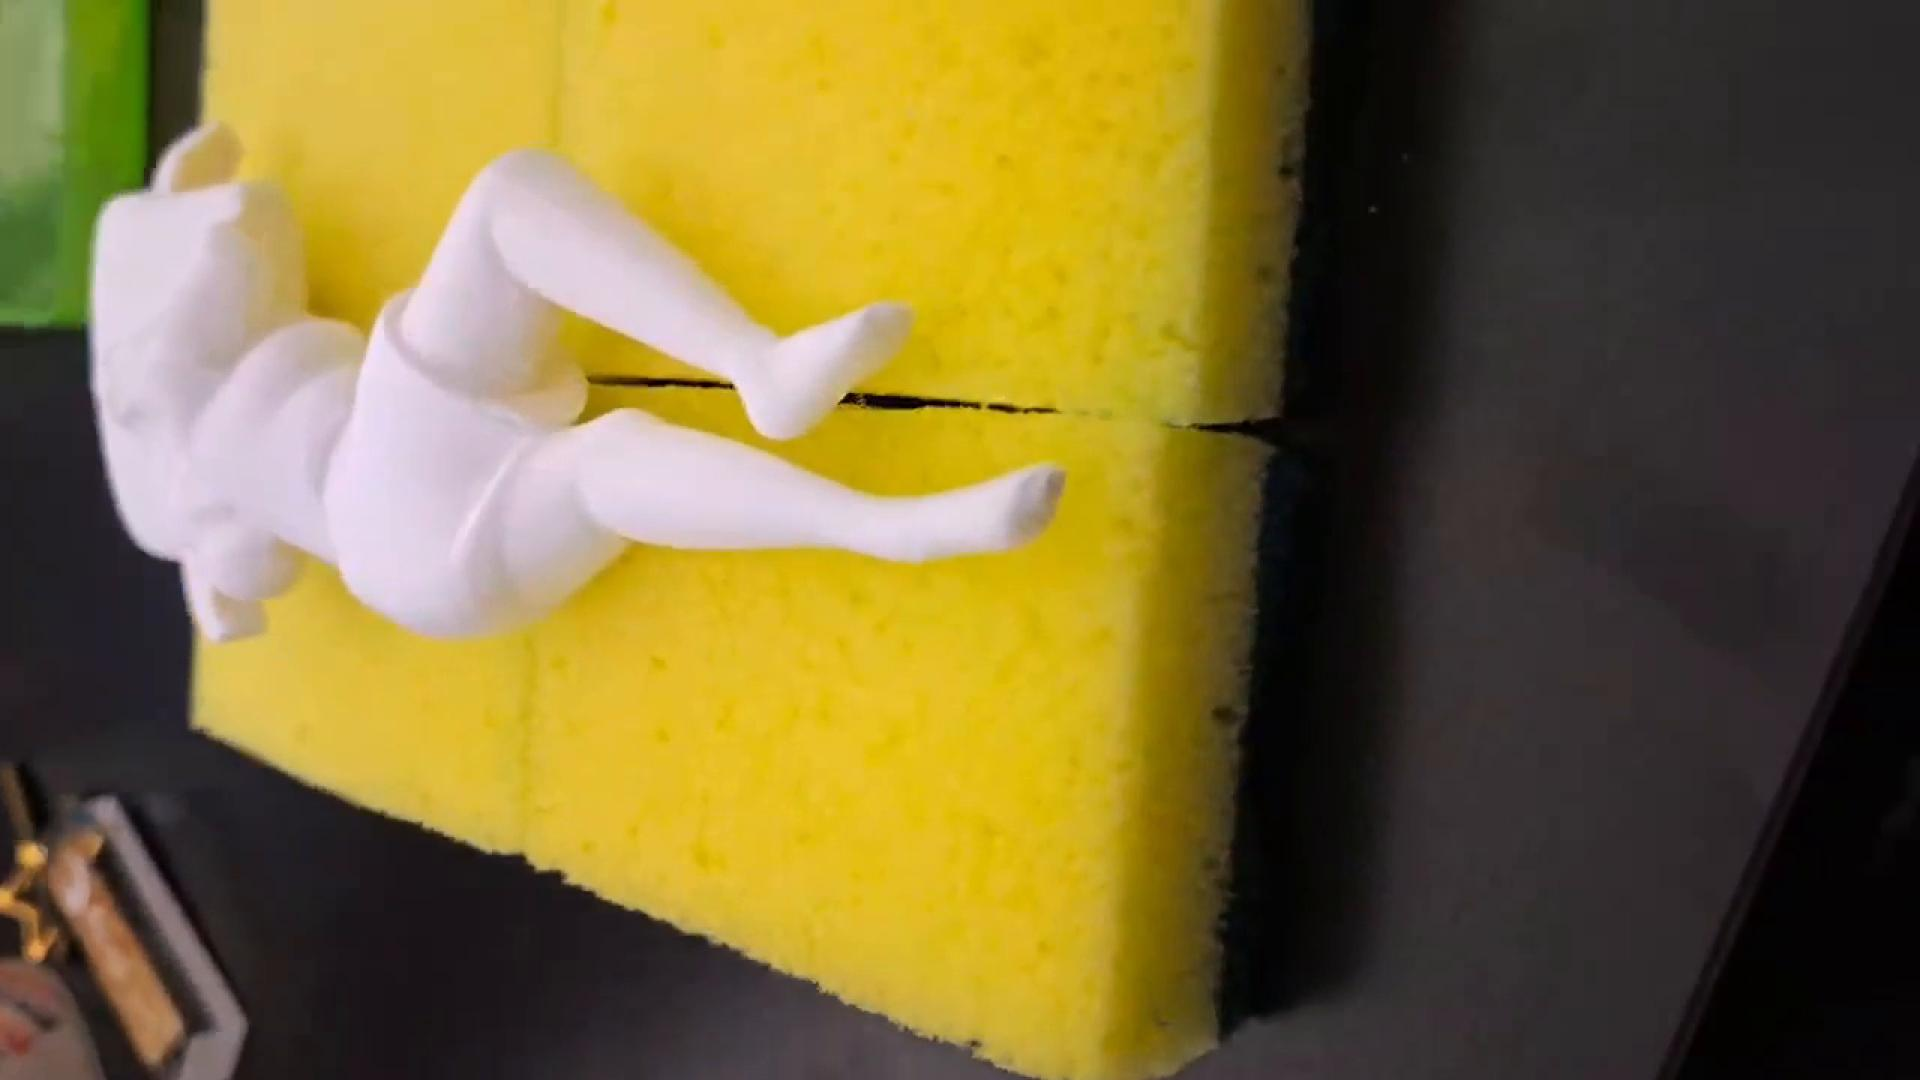Good-style: (87, 121, 1065, 678)
